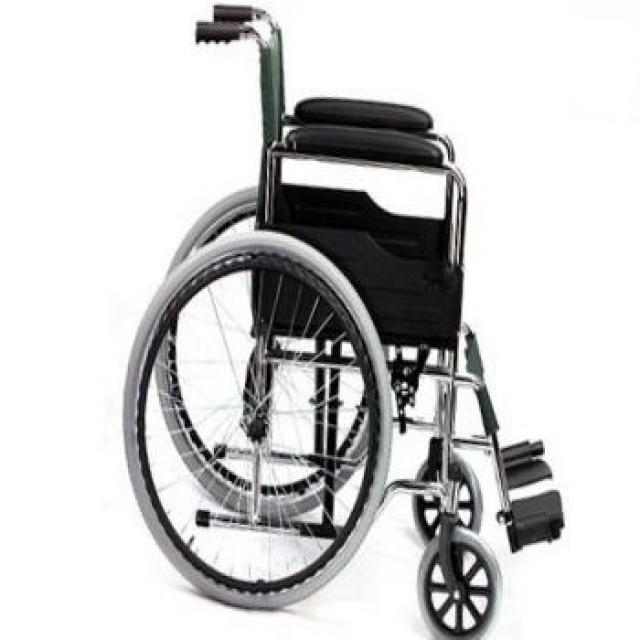wheelchair: (107, 0, 575, 640)
